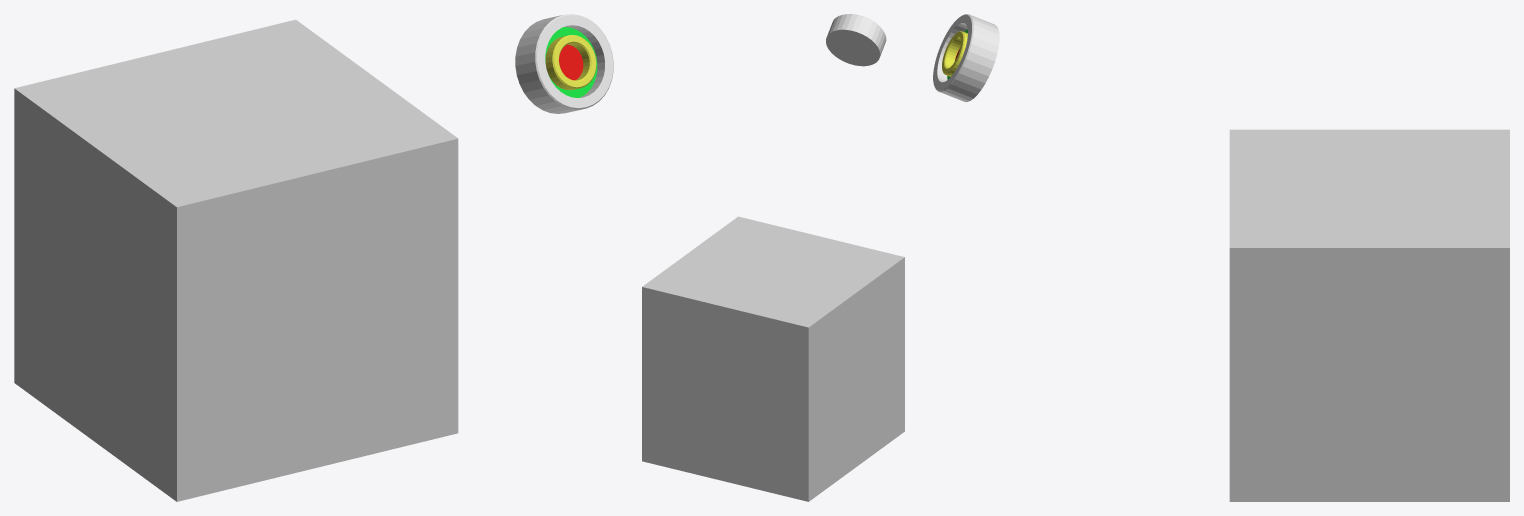
File: N_Reyeball_Spite.fbx
3 renders of one model, left to right at view 1: azimuth 30°, elevation 25°; view 2: azimuth 150°, elevation 25°; view 3: azimuth 270°, elevation 25°, orthographic. The views are drawn at different scales.
Parts seen in each view (by area): view 1: Cube, eye ball.002; view 2: Cube, eye ball.002; view 3: Cube, eye ball.002.
Boxes of the visible parts, x1,y1,x2,y2 form: Cube: (14, 19, 458, 501); eye ball.002: (515, 14, 613, 113); Cube: (642, 216, 904, 501); eye ball.002: (826, 14, 886, 66); Cube: (1229, 129, 1509, 501); eye ball.002: (933, 14, 999, 102).
Size of the model in its own units: 200 by 365 by 412.
